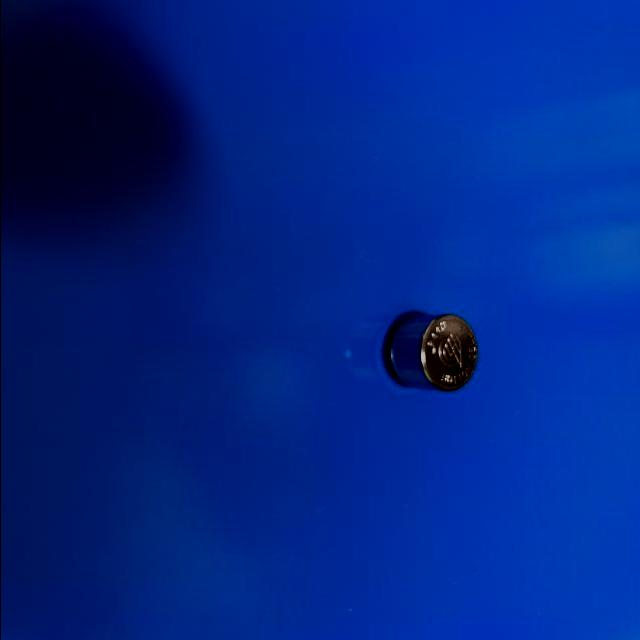COIN: (390, 312, 476, 390)
